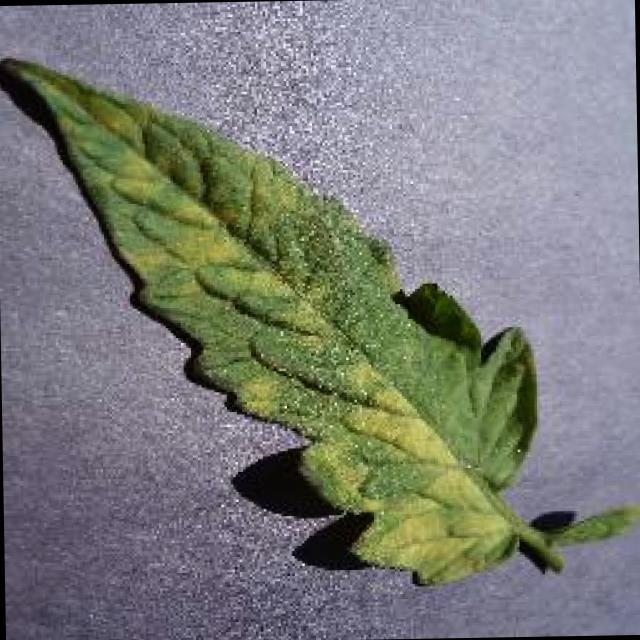Tomato mold leaf: (0, 50, 540, 604)
